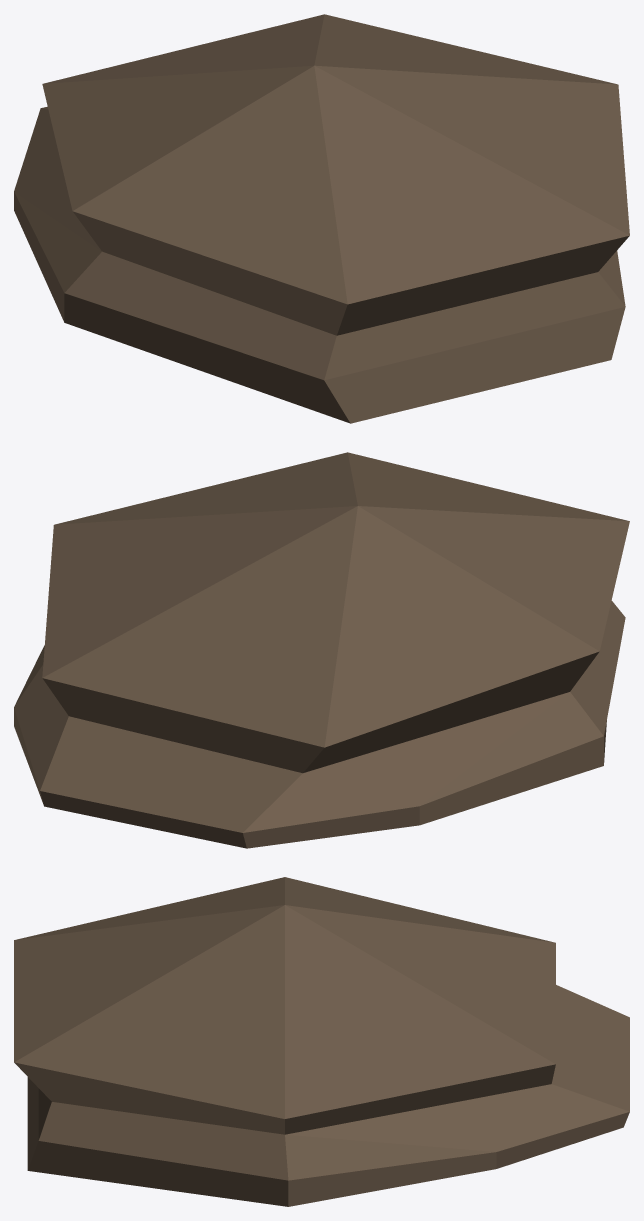
File: Hat2.fbx
The picture shows the model from 3 angles, top to bottom: view 1: azimuth 30°, elevation 25°; view 2: azimuth 150°, elevation 25°; view 3: azimuth 270°, elevation 25°; orthographic projection. The views are drawn at different scales.
Visible parts, largest first — view 1: Hat2; view 2: Hat2; view 3: Hat2.
Part boxes in pixels (x1,y1,x2,y2): Hat2: (14, 14, 629, 423); Hat2: (14, 452, 629, 848); Hat2: (14, 877, 629, 1206).
Size of the model in its own units: 57.98 by 22.62 by 63.14.
